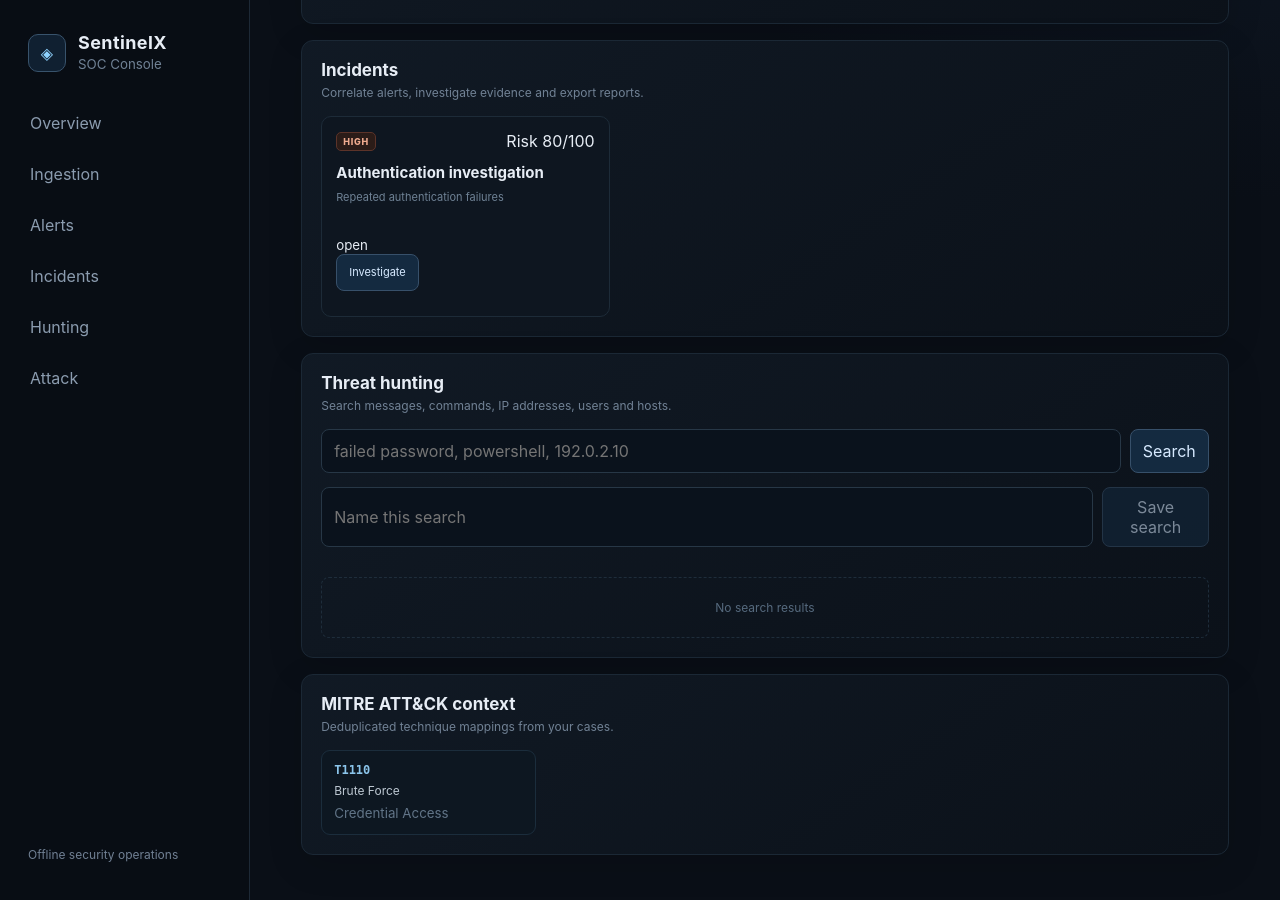
Test: analyst workflows › searches and renders normalized raw_data
(page scrolled)
Type "Failed" into the field named "Hunt query".
click(721, 450); type("Failed")  # box x1=321 y1=428 x2=1121 y2=472
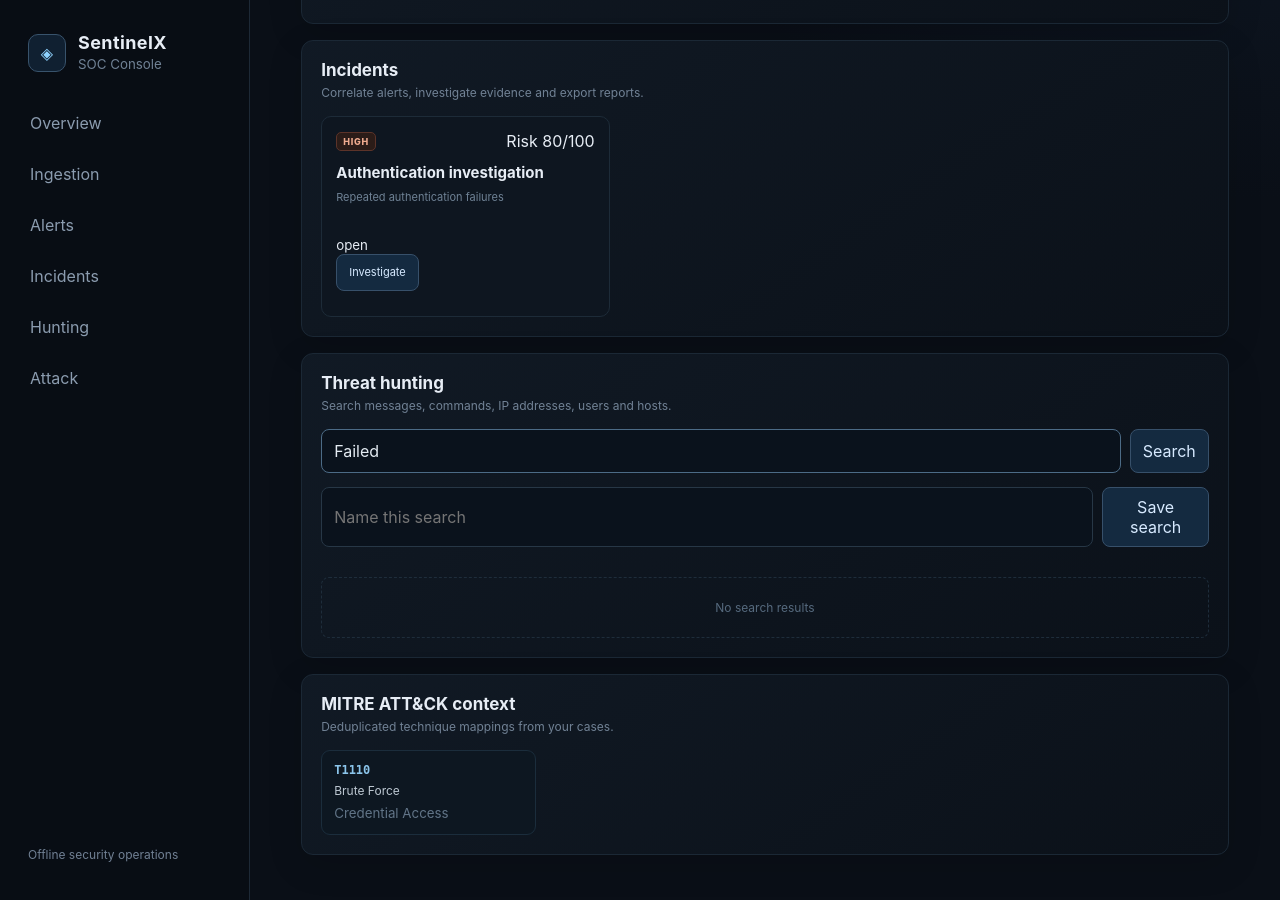
Click the button "Search".
click(1169, 450)  # box x1=1130 y1=428 x2=1209 y2=472
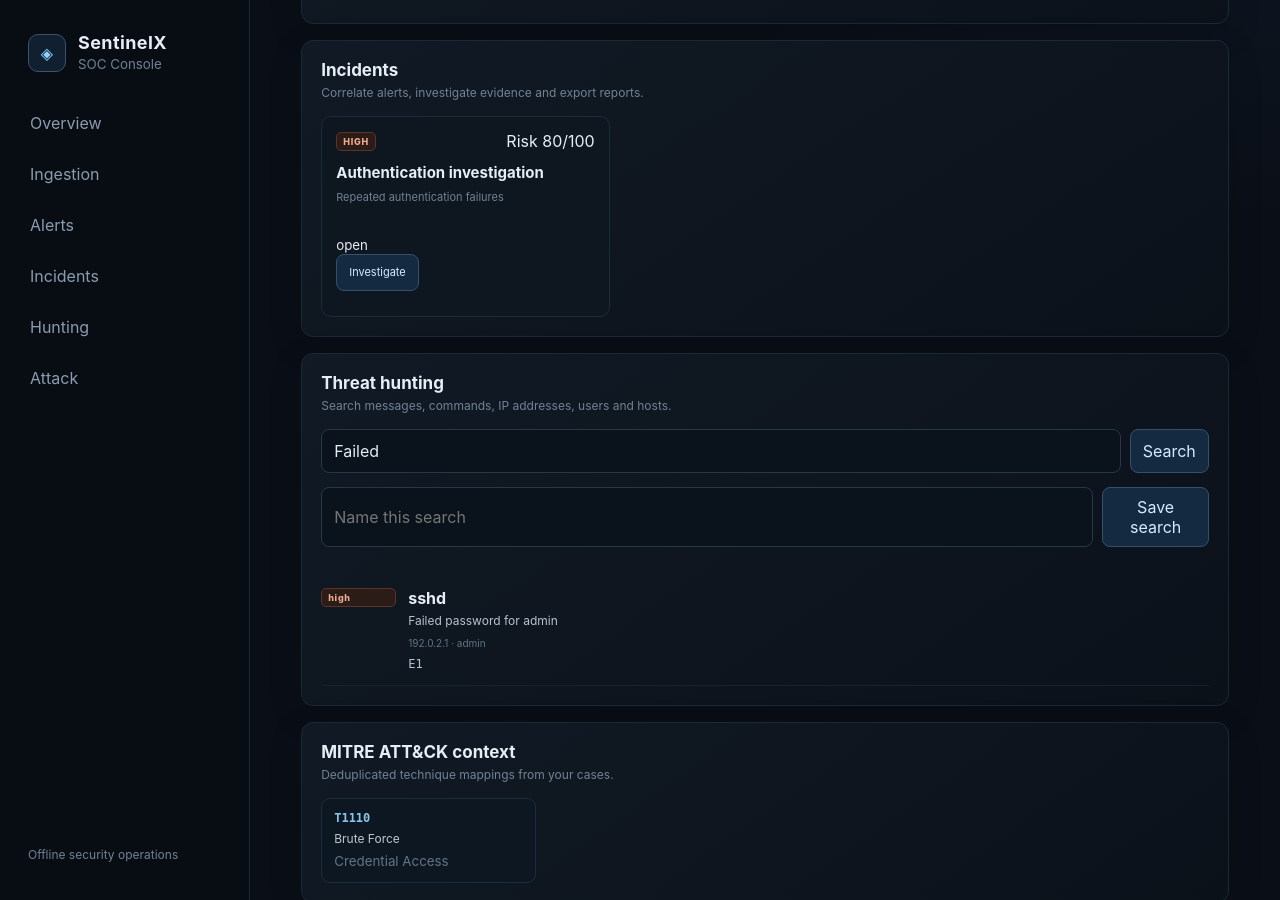
Check: the text "Failed password for admin" is shown, box x1=408 y1=612 x2=558 y2=628
